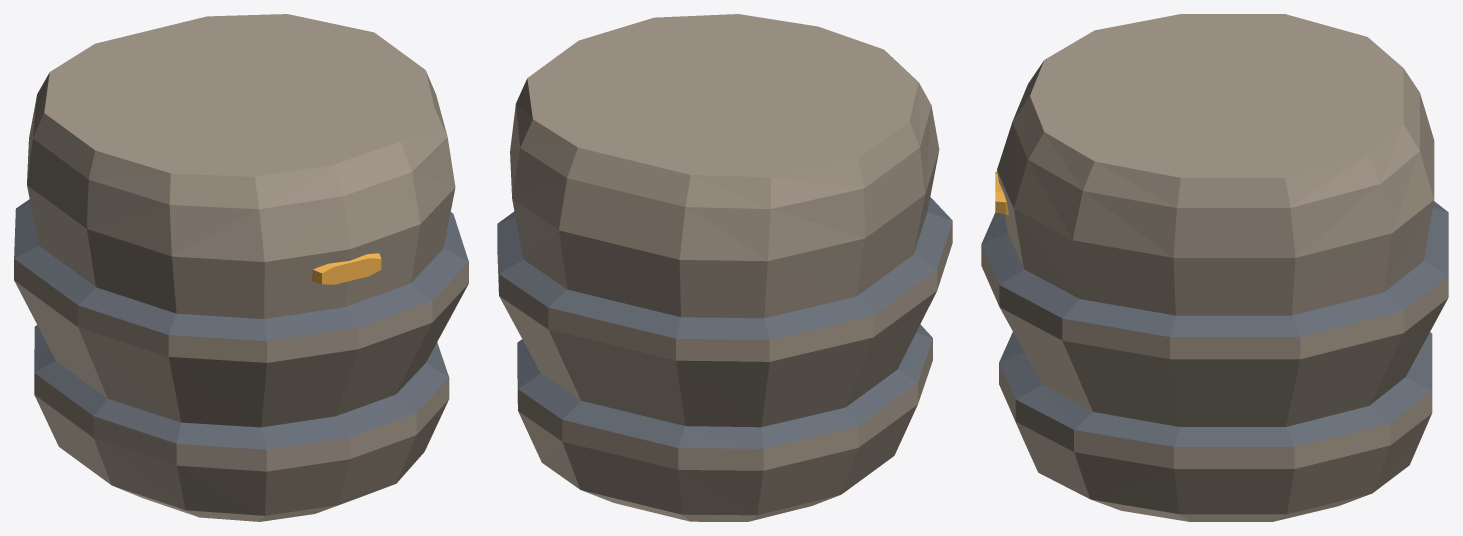
File: pauldron_heavy.glb
3 renders of one model, left to right at view 1: azimuth 30°, elevation 25°; view 2: azimuth 150°, elevation 25°; view 3: azimuth 270°, elevation 25°, orthographic.
Parts seen in each view (by area): view 1: pauldron_heavy; view 2: pauldron_heavy; view 3: pauldron_heavy.
Part boxes in pixels (x1=…): pauldron_heavy: x1=14, y1=14, x2=468, y2=521; pauldron_heavy: x1=497, y1=14, x2=952, y2=521; pauldron_heavy: x1=981, y1=14, x2=1448, y2=521.
Size of the model in its own units: 1.08 by 1 by 1.14.
